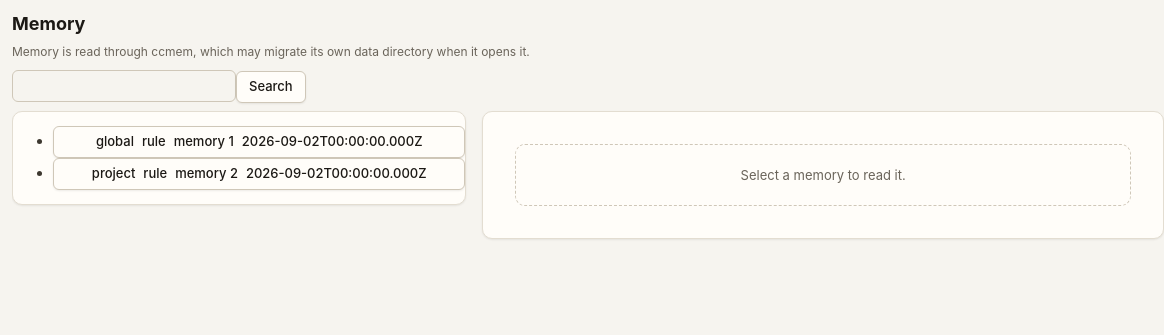
Test: MemoryView (spec §5.2, W1) › shows the newer search when an older one answers last
Expected: the navigation bar named "Memory list" is shown, [13,126,465,190]
Type "old" into the search field named "Search memory" at (124, 86), box [12,70,236,102]
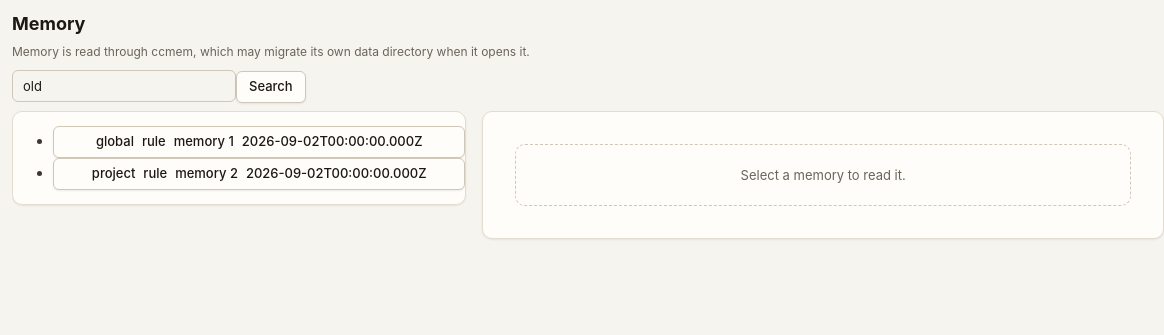
Submit the form named "Search memory", box [12,70,306,103]
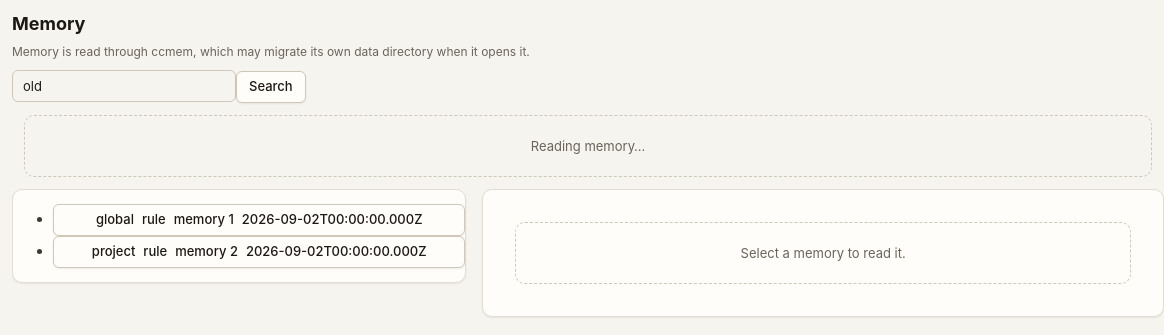
Replace the text in the search field named "Search memory" with "new" at (124, 86), box [12,70,236,102]
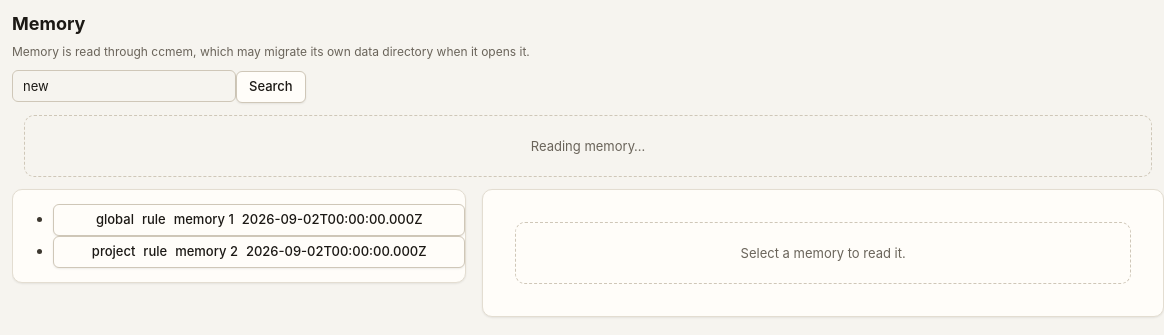
Submit the form named "Search memory", box [12,70,306,103]
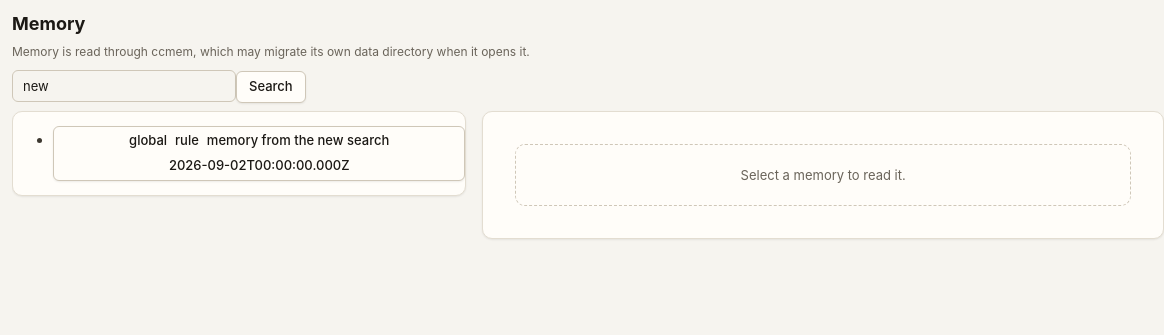
Expected: the text "memory from the new search" is shown, [207,132,389,149]
Expected: the text "Reading memory…" is gone
